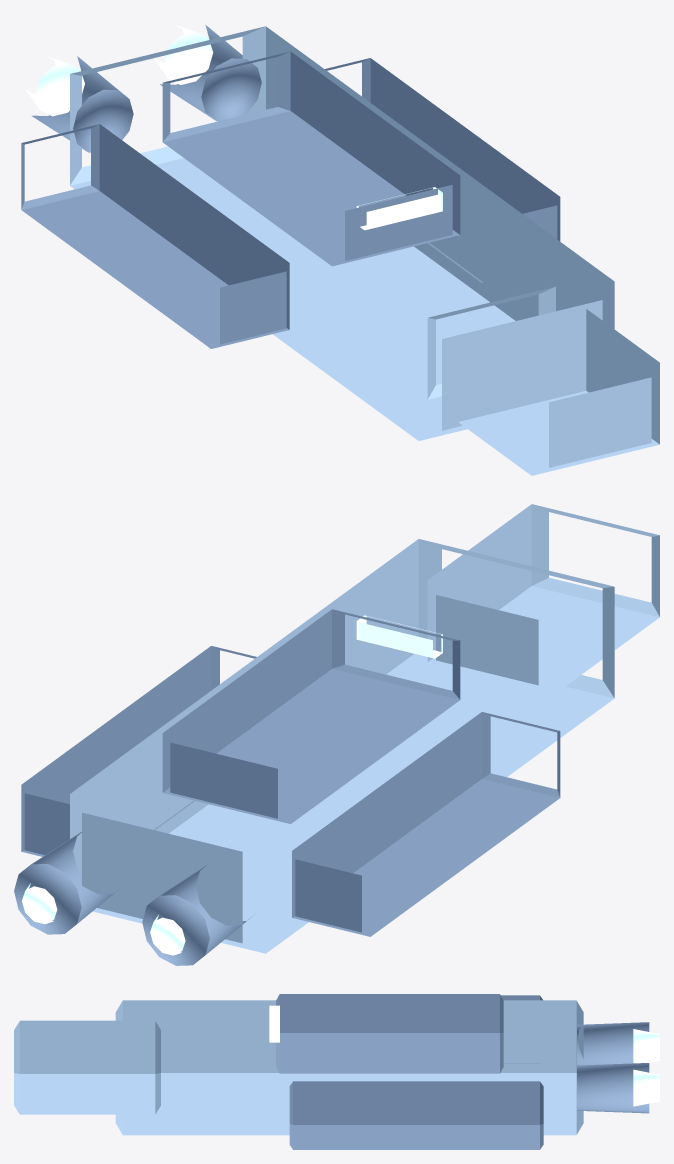
The model's file is fleet_escort.glb.
The picture shows the model from 3 angles, top to bottom: view 1: azimuth 30°, elevation 25°; view 2: azimuth 150°, elevation 25°; view 3: azimuth 270°, elevation 25°; orthographic projection. The views are drawn at different scales.
Parts seen in each view (by area): view 1: fleet_escort; view 2: fleet_escort; view 3: fleet_escort.
Part boxes in pixels (bbox=[...]): fleet_escort: bbox=[21, 25, 659, 475]; fleet_escort: bbox=[14, 504, 659, 965]; fleet_escort: bbox=[14, 994, 659, 1149].
Bounding box in the file's own units: 0.98 × 0.37 × 2.41.
